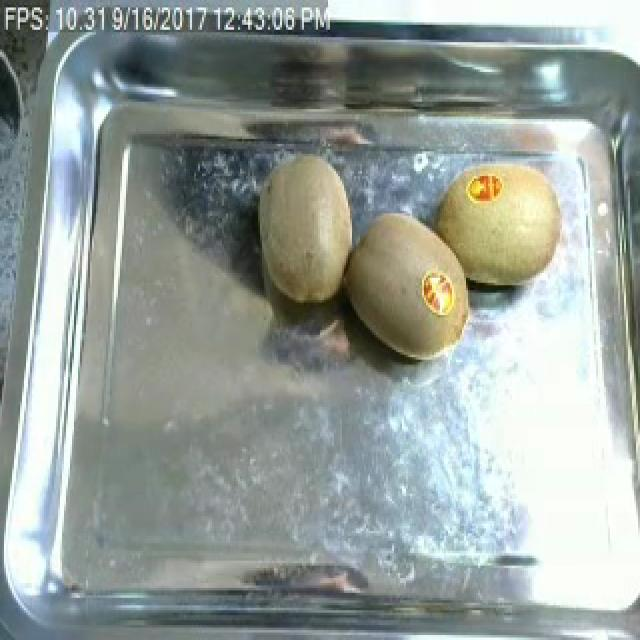Fruit: (336, 203, 482, 370), (426, 154, 574, 295), (248, 144, 360, 312)
